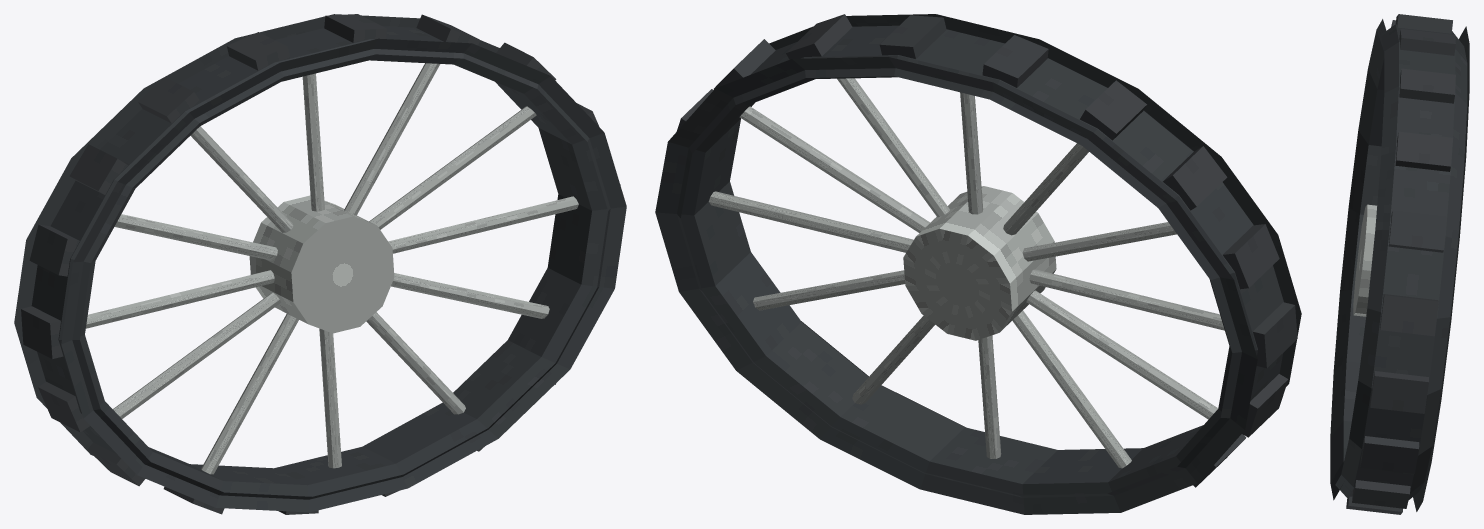
Rendered from deflated_wheel_bicycle.glb.
The picture shows the model from 3 angles, left to right: view 1: azimuth 30°, elevation 25°; view 2: azimuth 150°, elevation 25°; view 3: azimuth 270°, elevation 25°; orthographic projection. The views are drawn at different scales.
Parts seen in each view (by area): view 1: block_wheel cross section, block_radial spoke (×12), block_wheel hub, block_tread block (×9); view 2: block_wheel cross section, block_radial spoke (×12), block_tread block (×9), block_wheel hub; view 3: block_wheel cross section, block_tread block (×10), block_wheel hub.
Part boxes in pixels (left/top/right/bottom): block_wheel cross section: left=14, top=14, right=626, bottom=512; block_radial spoke (×12): left=86, top=63, right=578, bottom=474; block_wheel hub: left=249, top=195, right=394, bottom=333; block_tread block (×9): left=21, top=14, right=480, bottom=486; block_wheel cross section: left=655, top=14, right=1301, bottom=514; block_radial spoke (×12): left=708, top=78, right=1224, bottom=468; block_tread block (×9): left=714, top=14, right=1297, bottom=437; block_wheel hub: left=903, top=186, right=1056, bottom=340; block_wheel cross section: left=1330, top=19, right=1469, bottom=511; block_tread block (×10): left=1346, top=14, right=1455, bottom=514; block_wheel hub: left=1353, top=204, right=1376, bottom=316.
Size of the model in its own units: 0.686 by 0.5174 by 0.1547.
Materials: 1 (1 with a texture image).
